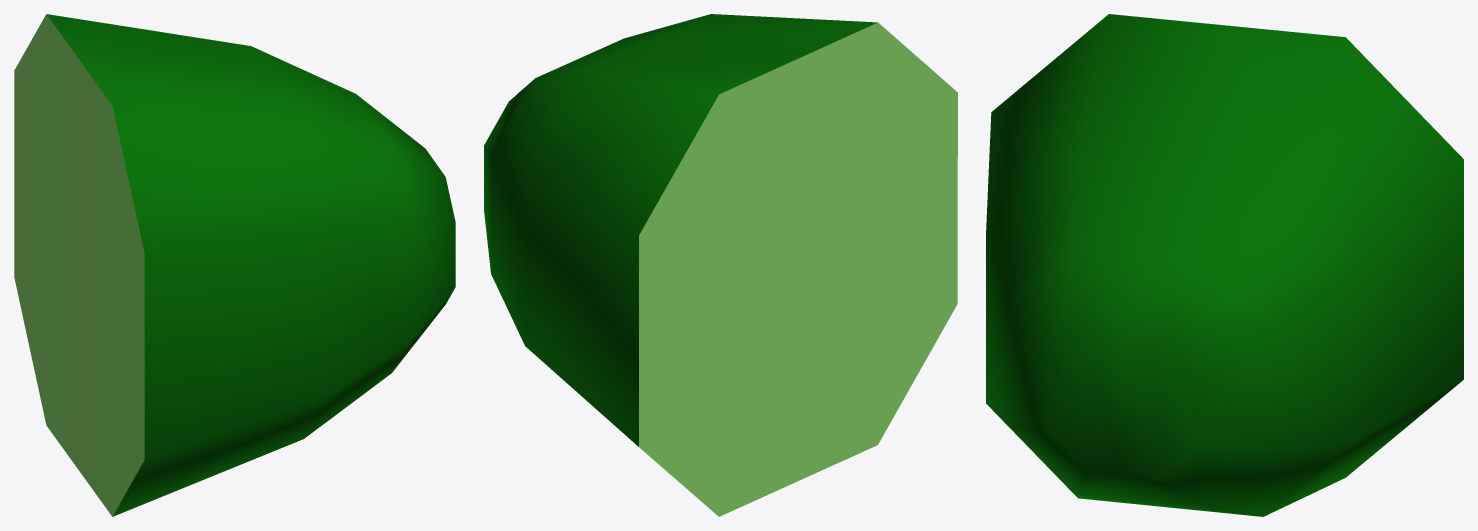
File: mesh_Cucumber_Stage12.fbx
3 renders of one model, left to right at view 1: azimuth 30°, elevation 25°; view 2: azimuth 150°, elevation 25°; view 3: azimuth 270°, elevation 25°, orthographic. The views are drawn at different scales.
Parts seen in each view (by area): view 1: mesh_Cucumber_Stage12; view 2: mesh_Cucumber_Stage12; view 3: mesh_Cucumber_Stage12.
Boxes of the visible parts, box(x1,y1,x2,y2) form: mesh_Cucumber_Stage12: box(14, 14, 455, 516); mesh_Cucumber_Stage12: box(484, 14, 957, 516); mesh_Cucumber_Stage12: box(986, 14, 1463, 516).
Size of the model in its own units: 0.0341 by 0.0367 by 0.036.
